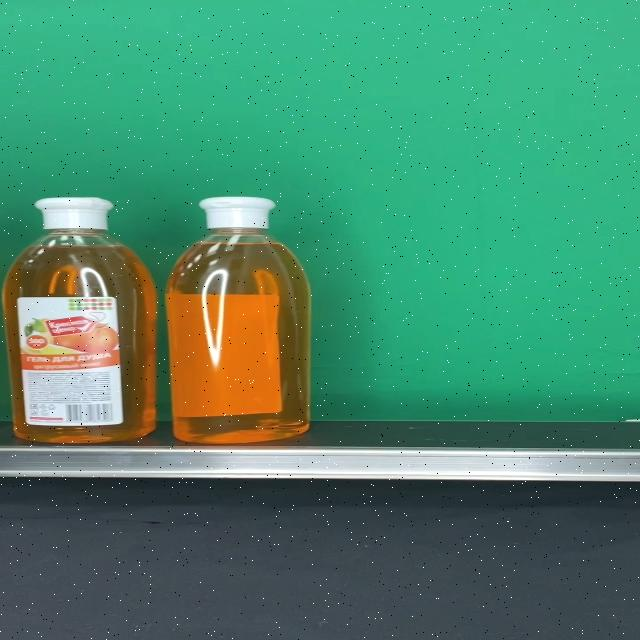Bottle: (2, 197, 157, 442), (166, 196, 311, 444)
Cap: (34, 197, 114, 230), (198, 197, 276, 229)
